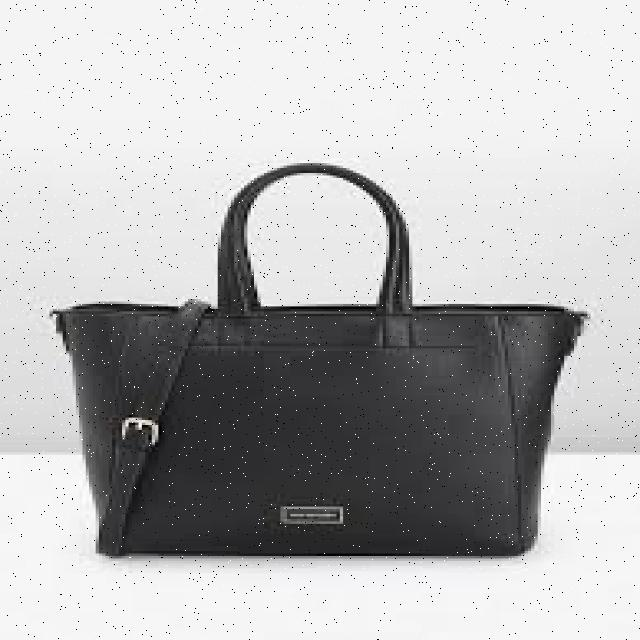handbag: (46, 161, 587, 556)
